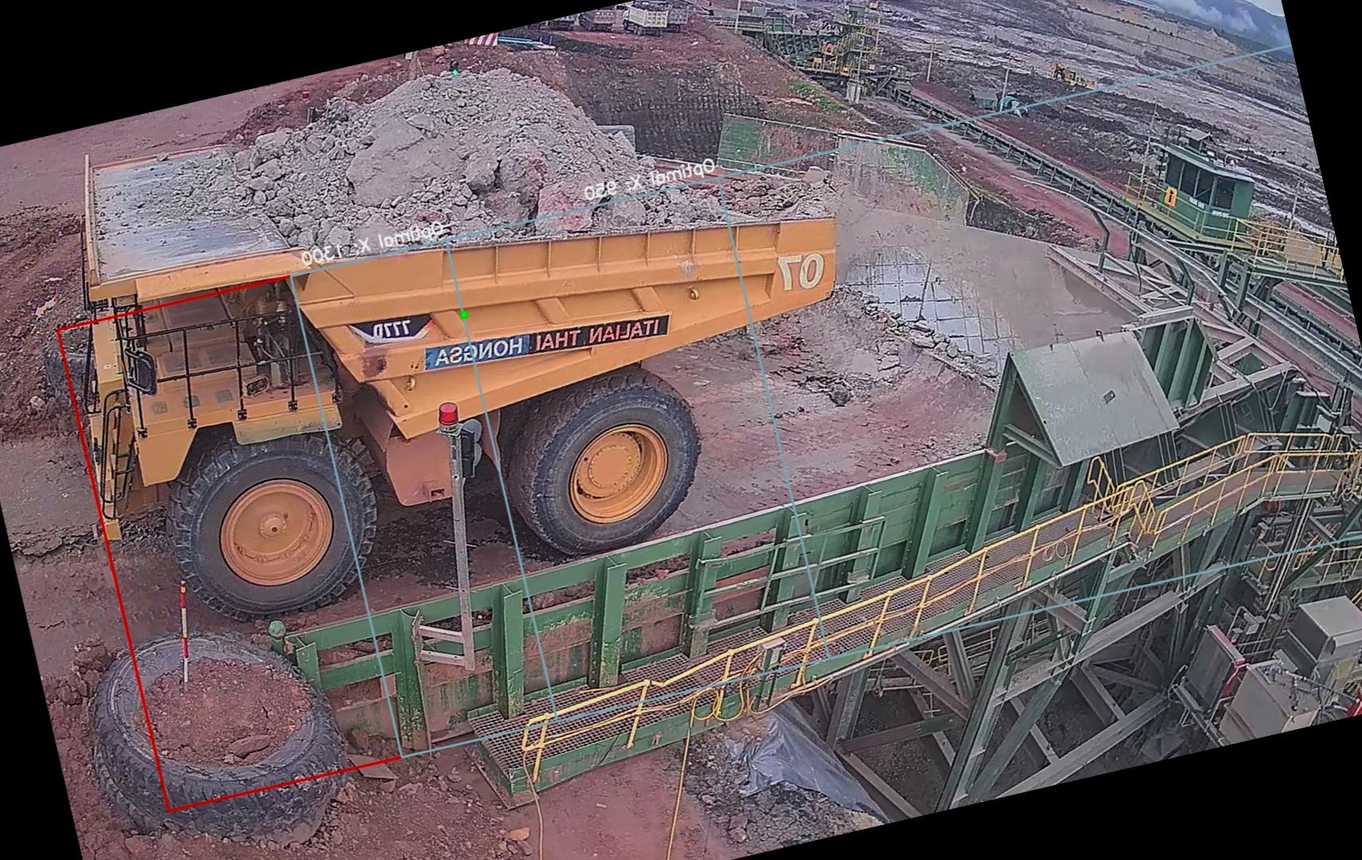company: (408, 283, 681, 393)
full_load: (251, 16, 691, 304)
mining_truck: (7, 0, 896, 657)
tail_number: (758, 237, 840, 307)
truck_size: (344, 298, 438, 355)
